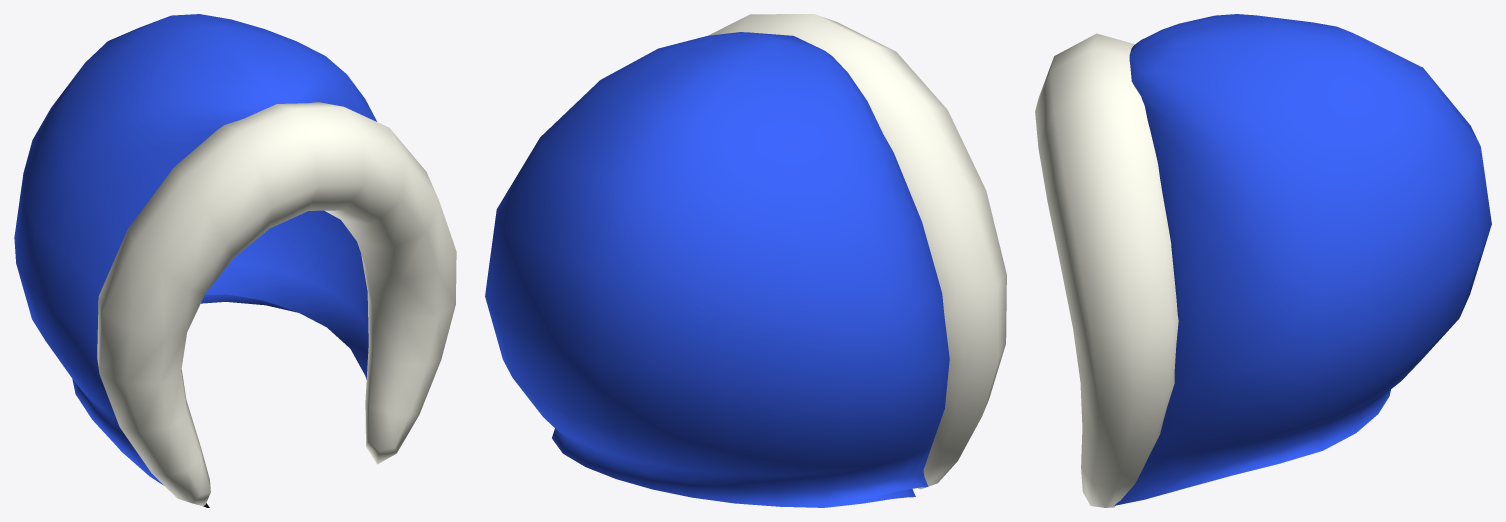
The model's file is Capucha.fbx.
3 renders of one model, left to right at view 1: azimuth 30°, elevation 25°; view 2: azimuth 150°, elevation 25°; view 3: azimuth 270°, elevation 25°, orthographic. The views are drawn at different scales.
Visible parts, largest first — view 1: Capucha; view 2: Capucha; view 3: Capucha.
Boxes of the visible parts, box(x1,y1,x2,y2) form: Capucha: box(14, 14, 456, 507); Capucha: box(485, 14, 1006, 507); Capucha: box(1035, 14, 1491, 507).
Bounding box in the file's own units: 293 × 313 × 297.
